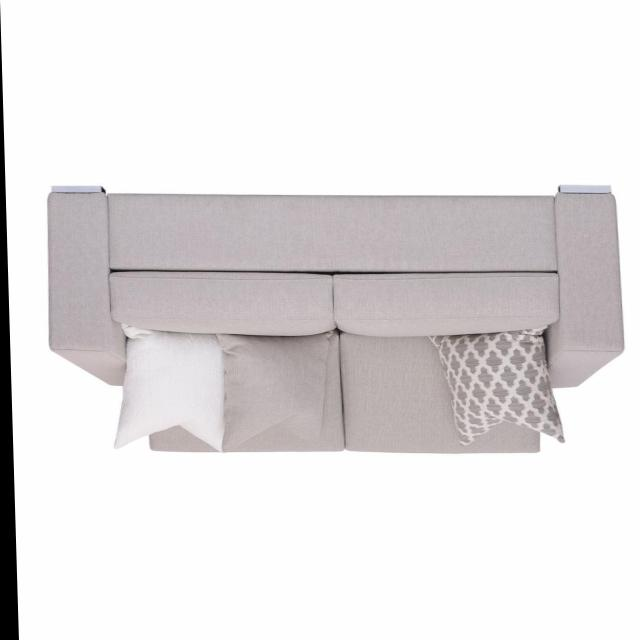Sofa: (41, 182, 627, 455)
